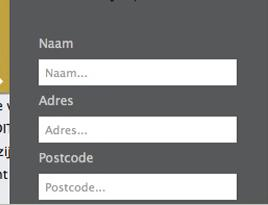field: (37, 114, 238, 144), (38, 57, 238, 87), (38, 172, 238, 201)
